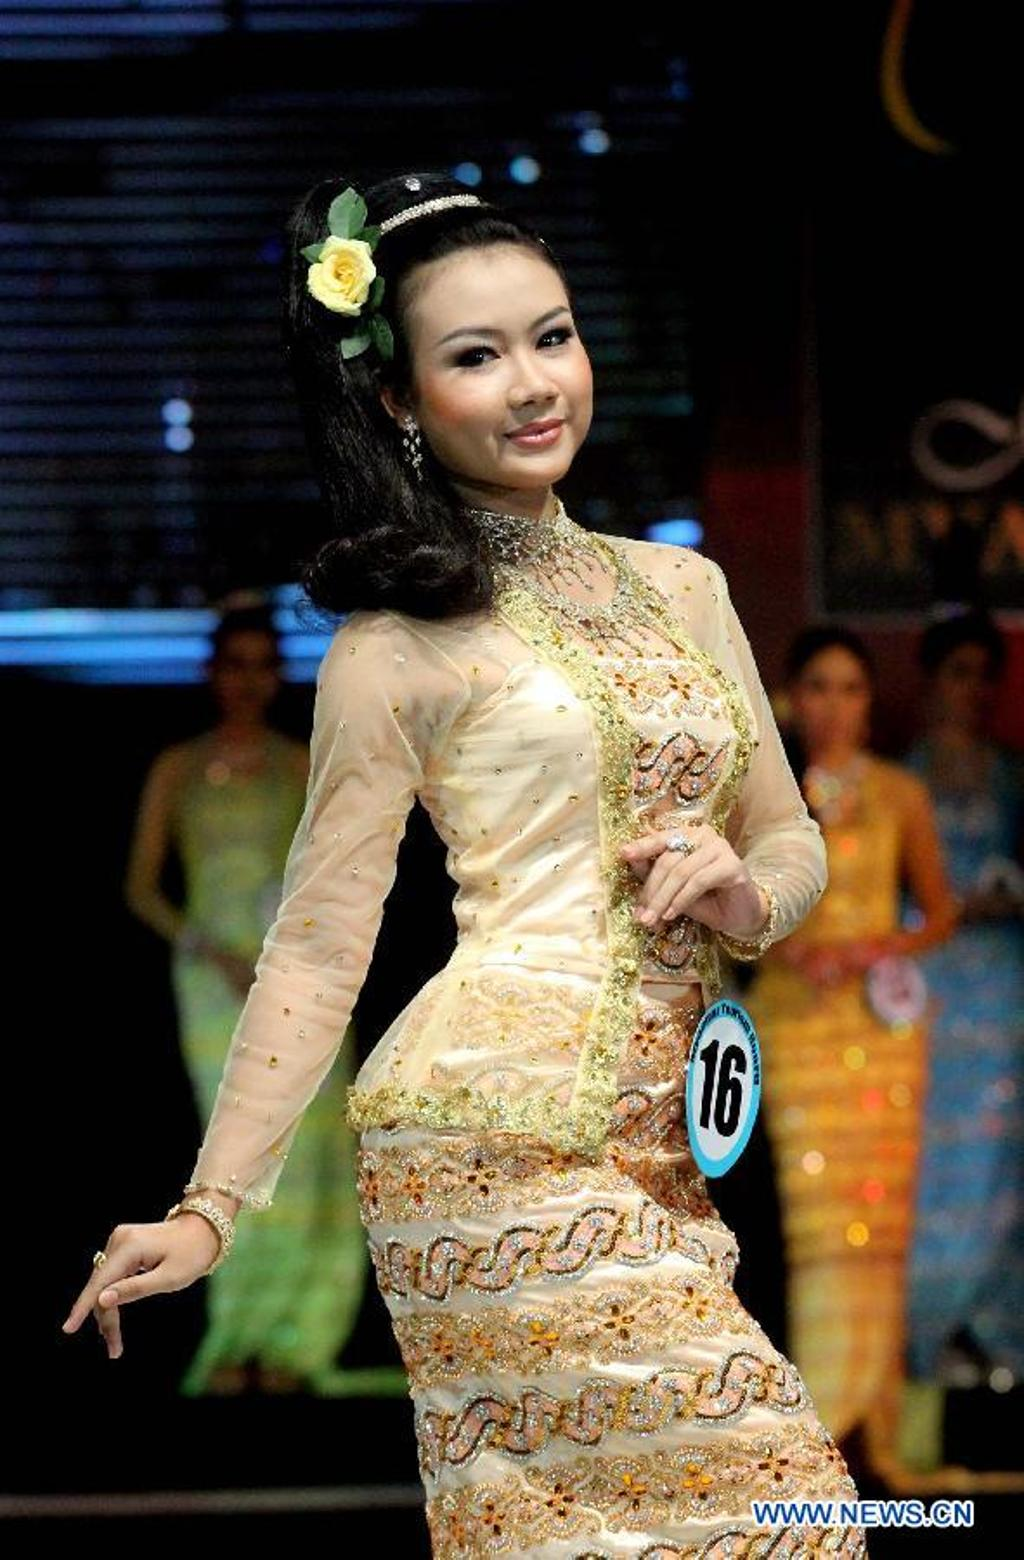face: (399, 250, 594, 485), (792, 652, 871, 756), (216, 625, 283, 713), (939, 637, 1003, 725)
